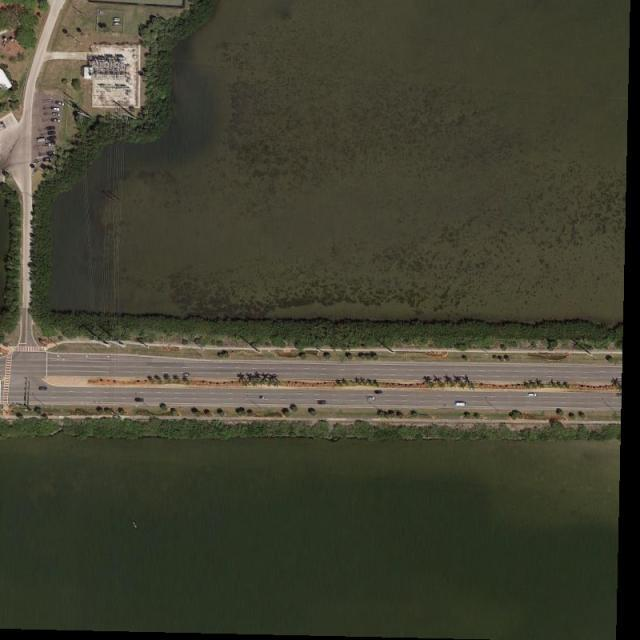vehicle: (1, 121, 8, 130), (47, 151, 57, 157), (55, 101, 67, 106), (456, 402, 468, 407), (134, 398, 145, 403), (51, 118, 62, 123), (48, 130, 57, 136), (47, 136, 56, 142), (46, 126, 56, 131), (528, 393, 538, 398), (52, 106, 61, 111), (318, 401, 327, 406), (43, 158, 53, 162), (53, 112, 61, 117), (367, 397, 375, 402), (375, 390, 383, 395), (39, 386, 48, 390), (182, 373, 190, 377), (46, 144, 55, 147), (38, 1, 43, 4)
